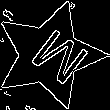M_SW: (14, 21, 84, 89)
